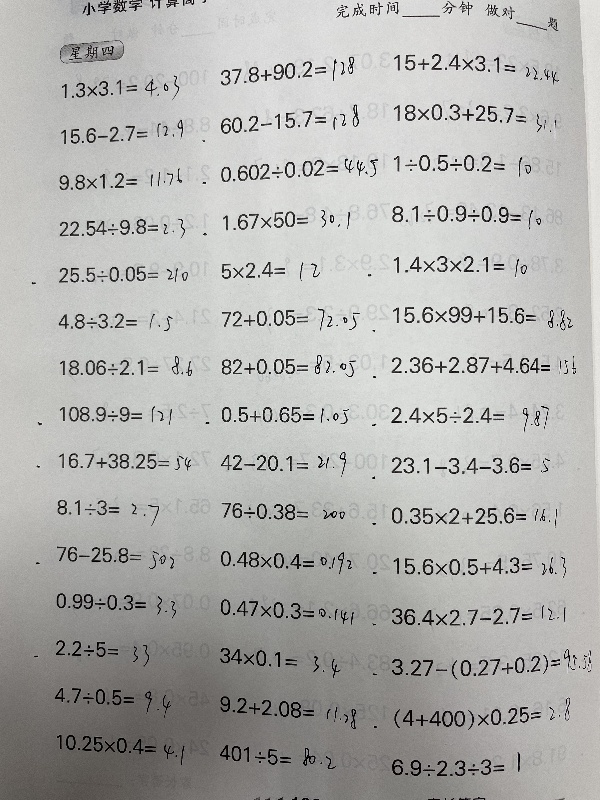equation: (385, 644, 597, 683), (393, 549, 568, 591), (391, 694, 573, 732), (388, 99, 562, 137), (391, 303, 576, 338), (216, 691, 363, 735), (389, 50, 563, 87), (54, 729, 190, 775), (385, 352, 584, 382), (387, 402, 550, 436), (389, 601, 573, 631), (216, 595, 357, 633), (214, 642, 345, 682), (48, 541, 185, 578), (215, 54, 357, 89), (51, 683, 173, 723), (386, 502, 560, 530), (51, 586, 182, 623), (215, 155, 380, 183), (386, 199, 544, 228), (215, 106, 362, 137), (218, 547, 358, 579), (215, 498, 349, 531), (216, 348, 358, 379), (217, 447, 350, 480), (218, 304, 363, 334), (385, 752, 527, 782), (387, 452, 553, 477), (389, 149, 534, 177), (58, 71, 183, 103), (217, 742, 336, 775), (200, 401, 351, 427), (55, 350, 195, 378), (389, 250, 530, 277), (218, 204, 352, 232), (55, 214, 189, 241), (54, 447, 193, 472), (54, 260, 191, 285), (53, 636, 153, 670), (54, 166, 184, 191), (56, 119, 186, 144), (53, 307, 175, 333), (52, 494, 161, 523), (54, 400, 174, 426), (217, 257, 324, 285)
